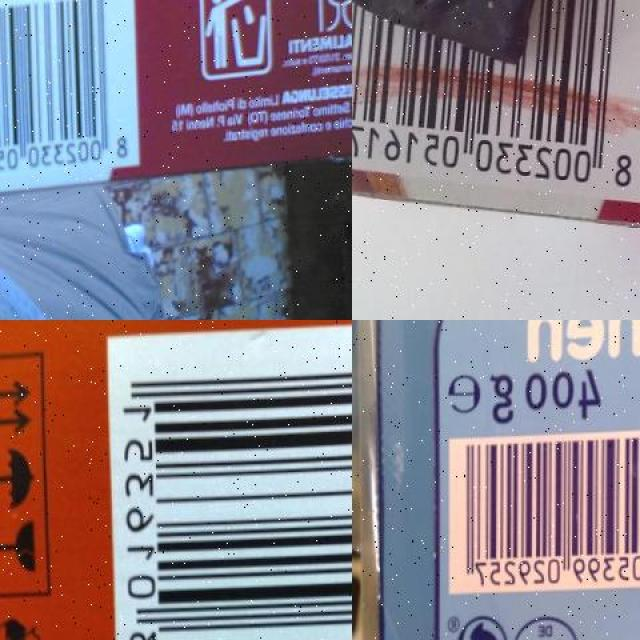Barcode: (105, 320, 352, 640), (352, 0, 640, 209), (452, 425, 640, 587), (0, 0, 146, 181)
